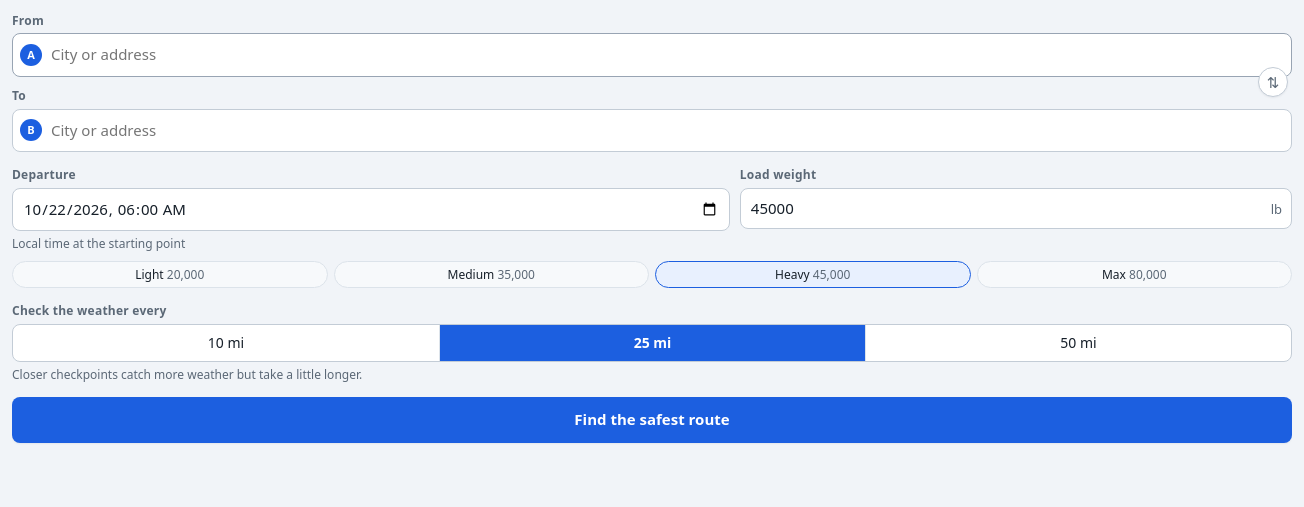
Test: TripForm › will not submit without places and says what is missing
What coordinates should you click on to do the following:
click the button "Find the safest route"
I would click on:
 (652, 420)
Its box is [12,397,1292,443].
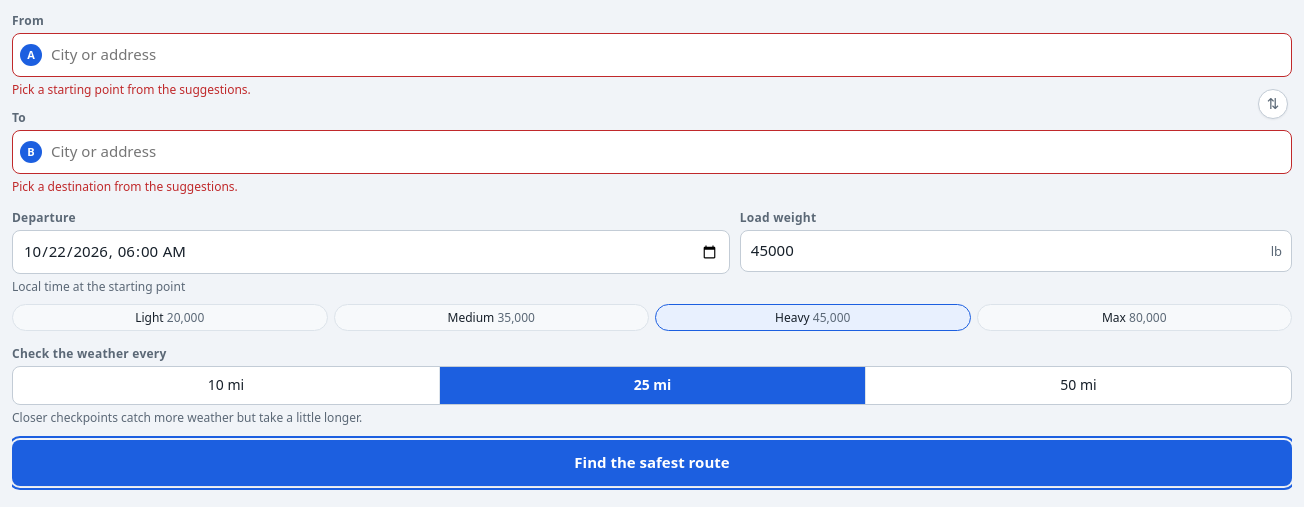
Expected: the text "Pick a starting point from the suggestions." is shown, [12,81,251,98]
Expected: the text "Pick a destination from the suggestions." is shown, [12,178,238,195]
